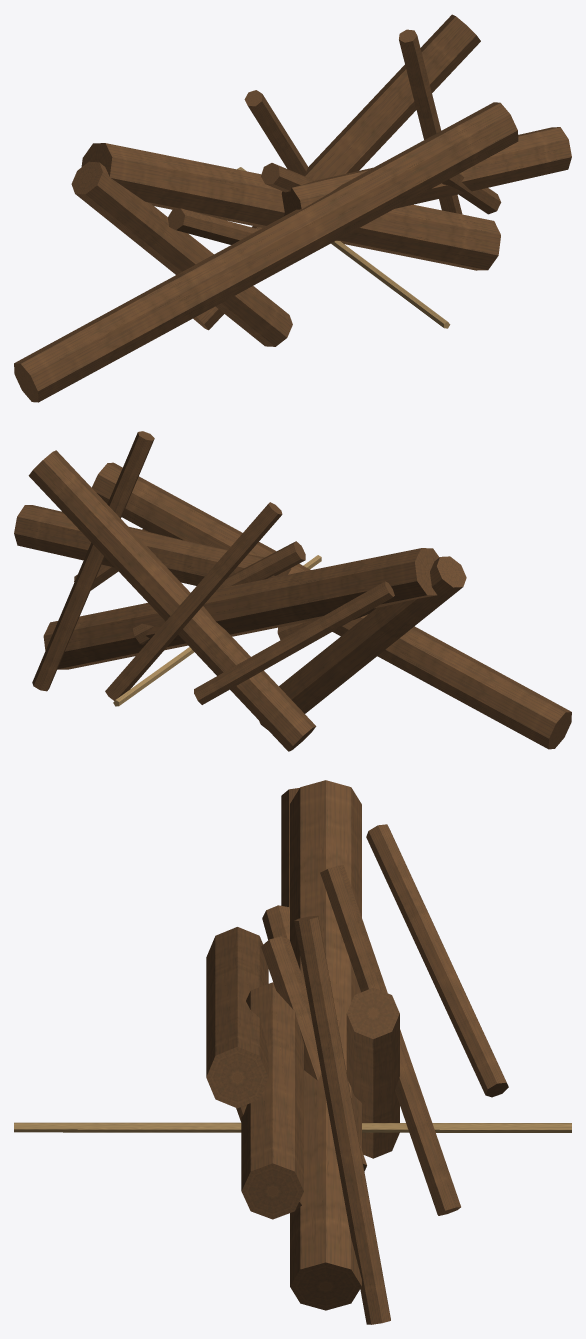
Rendered from en-006_driftwood_cluster__medium.obj.
3 views of the same model, one above another, from view 1: azimuth 30°, elevation 25°; view 2: azimuth 150°, elevation 25°; view 3: azimuth 270°, elevation 25° (orthographic). The views are drawn at different scales.
Parts seen in each view (by area): view 1: en-006_driftwood_cluster__medium; view 2: en-006_driftwood_cluster__medium; view 3: en-006_driftwood_cluster__medium.
Part boxes in pixels (x1,y1,x2,y2): en-006_driftwood_cluster__medium: (14, 14, 571, 402); en-006_driftwood_cluster__medium: (14, 431, 571, 751); en-006_driftwood_cluster__medium: (14, 780, 571, 1324).
Size of the model in its own units: 1.44 by 0.6939 by 0.9457.
2 materials, 2 textured.
